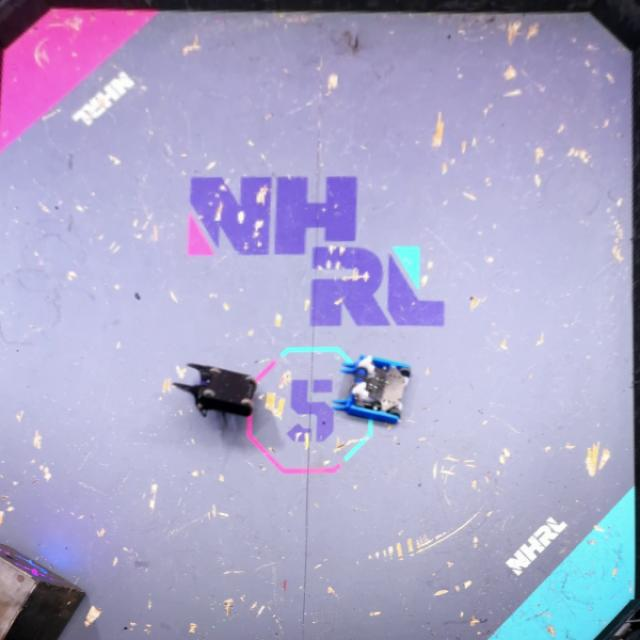housebot: (0, 540, 86, 639)
robot: (330, 352, 414, 427), (171, 360, 259, 420)
